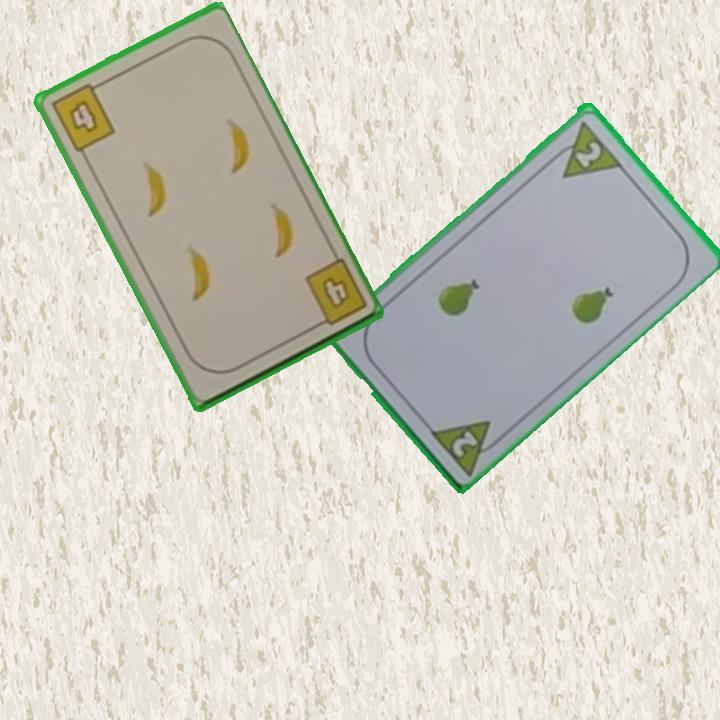2p: (545, 116, 624, 182), (425, 415, 507, 477)
4b: (47, 78, 118, 155), (299, 255, 370, 332)
